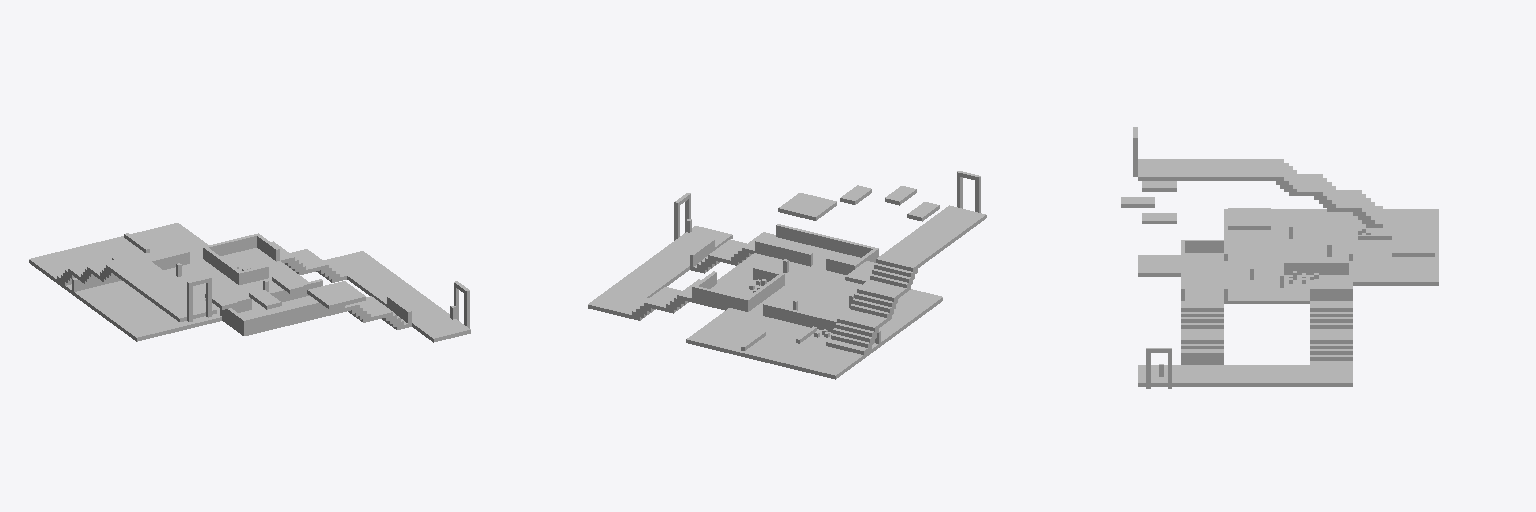
The model's file is lvl04_all.obj.
3 views of the same model, side by side, from view 1: azimuth 30°, elevation 25°; view 2: azimuth 150°, elevation 25°; view 3: azimuth 270°, elevation 25° (orthographic).
Visible parts, largest first — view 1: lvl04_all:Mesh; view 2: lvl04_all:Mesh; view 3: lvl04_all:Mesh.
Boxes of the visible parts, x1=… form: lvl04_all:Mesh: x1=29, y1=223, x2=470, y2=342; lvl04_all:Mesh: x1=588, y1=171, x2=986, y2=379; lvl04_all:Mesh: x1=1121, y1=127, x2=1438, y2=388.
Size of the model in its own units: 79 by 31 by 74.